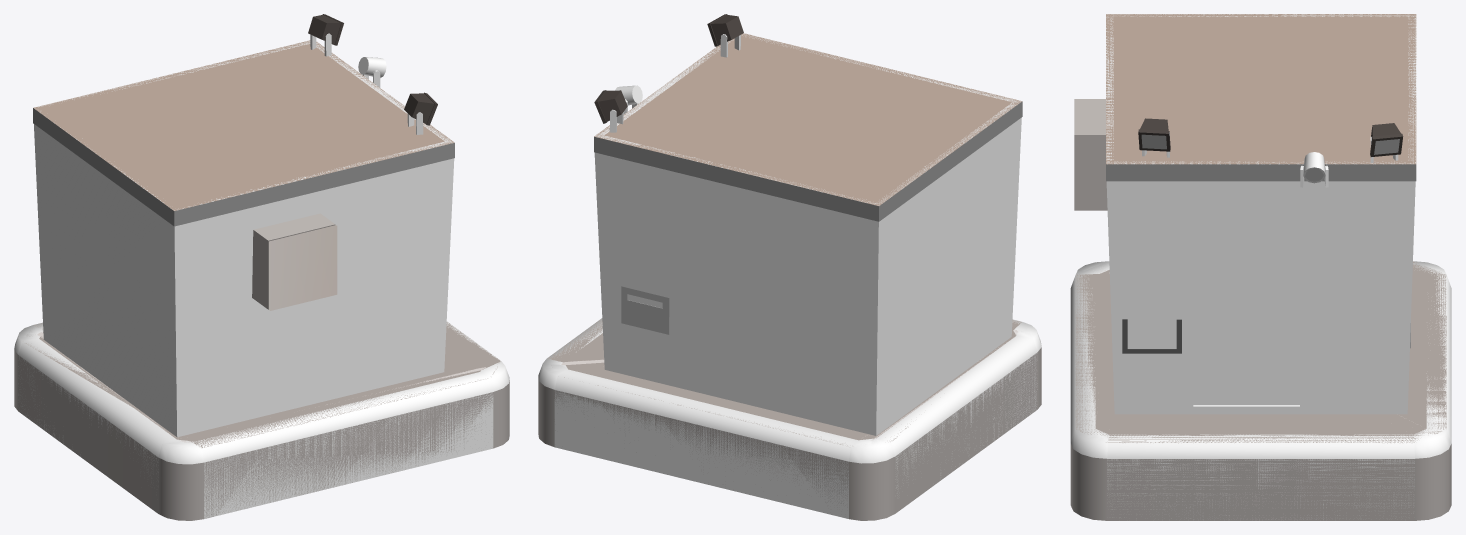
File: guardhouse.dae
The picture shows the model from 3 angles, left to right: view 1: azimuth 30°, elevation 25°; view 2: azimuth 150°, elevation 25°; view 3: azimuth 270°, elevation 25°; orthographic projection. The views are drawn at different scales.
Parts seen in each view (by area): view 1: Colmesh-1, guardhouse_a050, guardhouse_a300, guardhouse_a150; view 2: Colmesh-1, guardhouse_a050, guardhouse_a300, guardhouse_a150; view 3: Colmesh-1, guardhouse_a050, guardhouse_a300, guardhouse_a150.
Part boxes in pixels (x1,y1,x2,y2): Colmesh-1: (18, 124, 500, 518); guardhouse_a050: (33, 40, 454, 226); guardhouse_a300: (14, 14, 509, 520); guardhouse_a150: (18, 15, 501, 462); Colmesh-1: (548, 117, 1037, 518); guardhouse_a050: (594, 33, 1022, 221); guardhouse_a300: (538, 14, 1041, 520); guardhouse_a150: (547, 15, 1037, 461); Colmesh-1: (1075, 181, 1446, 520); guardhouse_a050: (1106, 14, 1416, 181); guardhouse_a300: (1070, 14, 1451, 520); guardhouse_a150: (1070, 99, 1451, 458).
Bounding box in the file's own units: 3.54 × 3.07 × 3.24.
